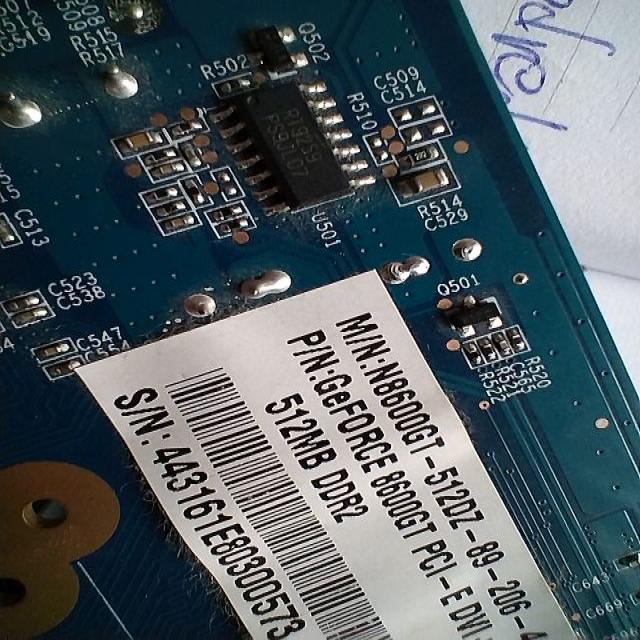capacitor: (389, 163, 462, 211)
resistor: (213, 63, 274, 104), (140, 177, 182, 213), (397, 141, 447, 170), (505, 322, 538, 359)
